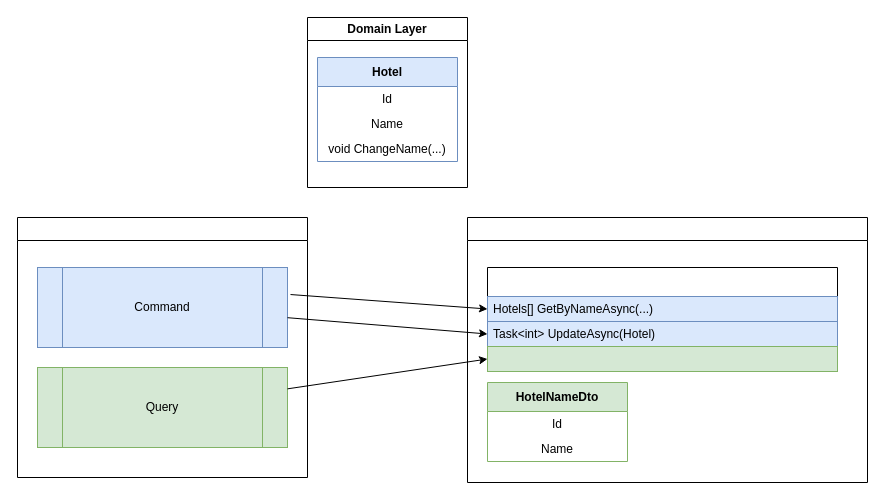
This 885x500 diagram has some shape labels left out. Each missing label, with the box of its shape:
Application Layer: (16, 216, 308, 478)
Data Access Layer: (466, 216, 868, 482)
HotelRepository: (486, 266, 838, 372)
HoteNameDto GetHotelNamesAsync(...): (486, 346, 838, 372)
